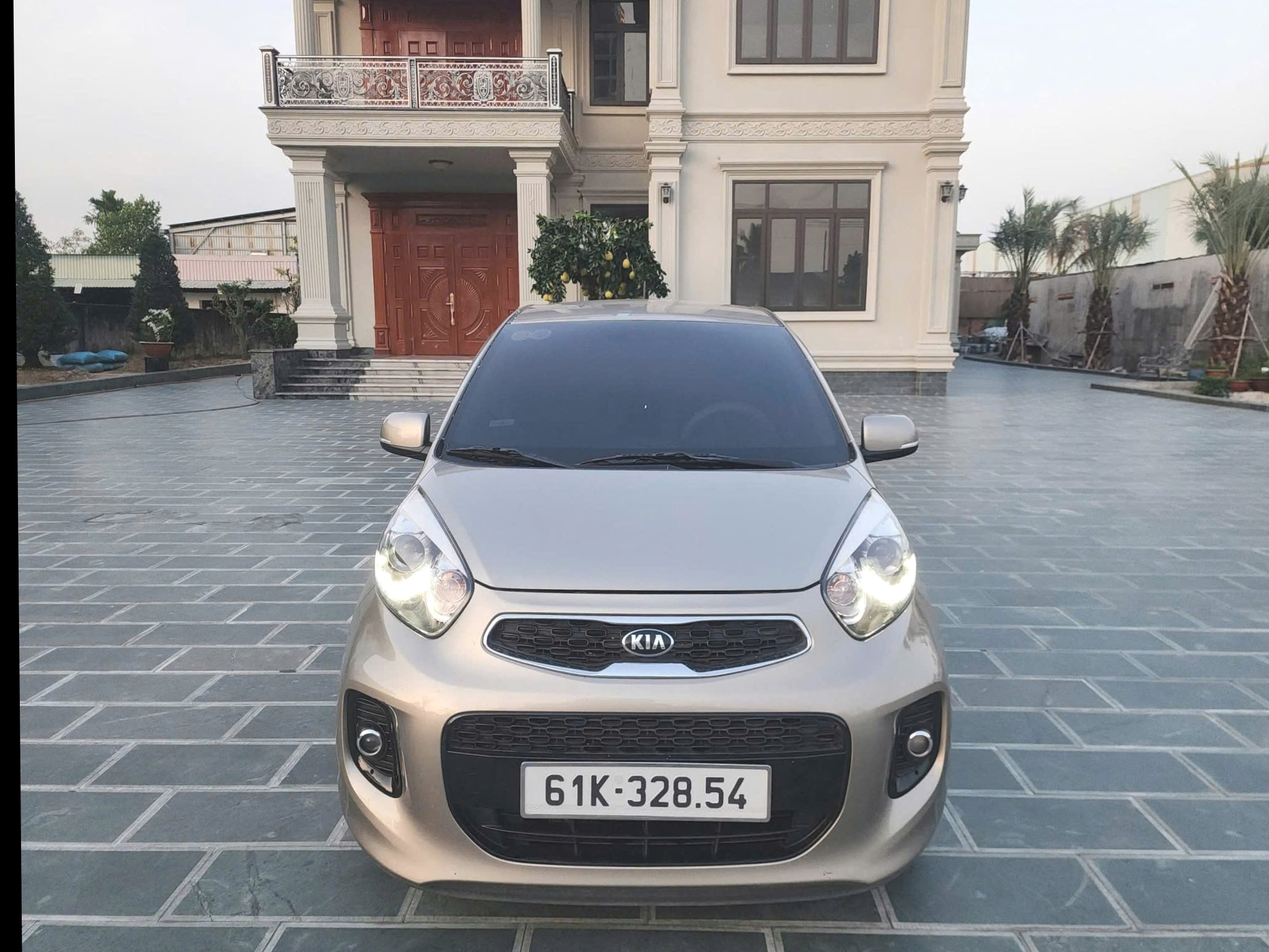Bien-so: (466, 739, 711, 806)
